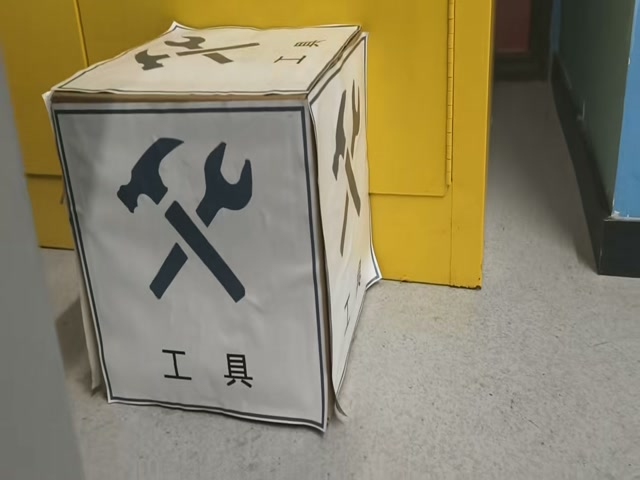Cube_tool: (43, 19, 360, 98)
